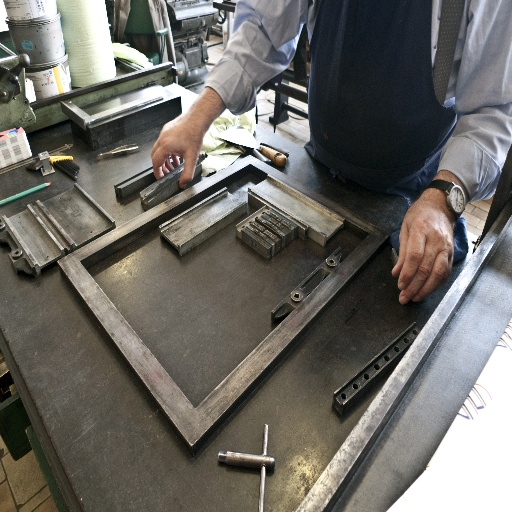hand: (391, 192, 463, 303), (149, 110, 204, 190)
